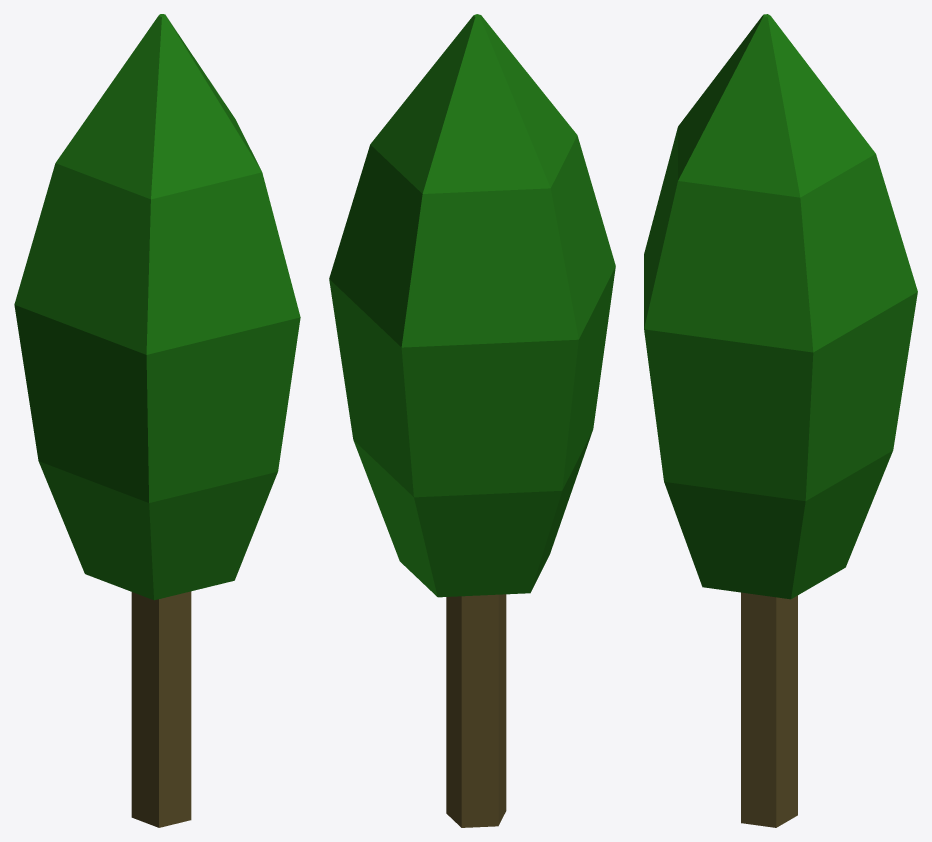
File: TreeShape2_Dark.fbx
The picture shows the model from 3 angles, left to right: view 1: azimuth 30°, elevation 25°; view 2: azimuth 150°, elevation 25°; view 3: azimuth 270°, elevation 25°; orthographic projection.
Visible parts, largest first — view 1: TreeShape2_Dark; view 2: TreeShape2_Dark; view 3: TreeShape2_Dark.
Boxes of the visible parts, x1=… form: TreeShape2_Dark: x1=14, y1=14, x2=300, y2=827; TreeShape2_Dark: x1=329, y1=14, x2=615, y2=827; TreeShape2_Dark: x1=644, y1=14, x2=917, y2=827.
Bounding box in the file's own units: 114 × 350 × 109.
